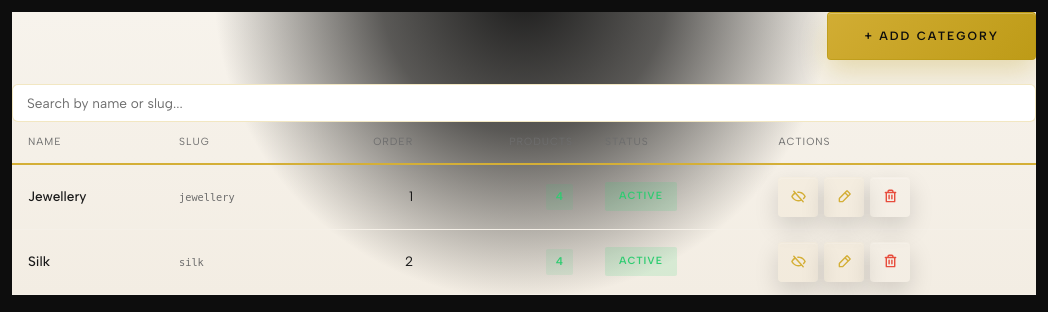
Test case: AdminCategoriesPanel › search input narrows rows by name and slug
The image size is (1048, 312).
Type "sil" into the field named "Search categories" at {"x": 524, "y": 103}, box [12,84,1036,122]
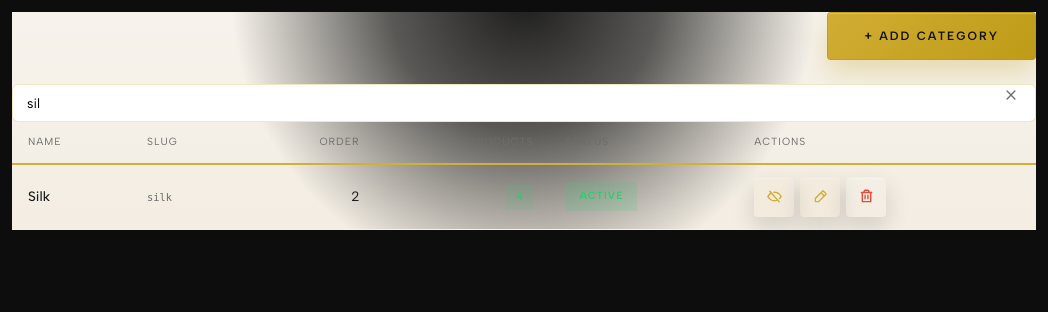
Check: the text "Silk" is shown, box [28,188,50,204]
Check: the text "Jewellery" is gone
Replace the text in the field named "Search categories" with "jewellery" at {"x": 524, "y": 103}, box [12,84,1036,122]
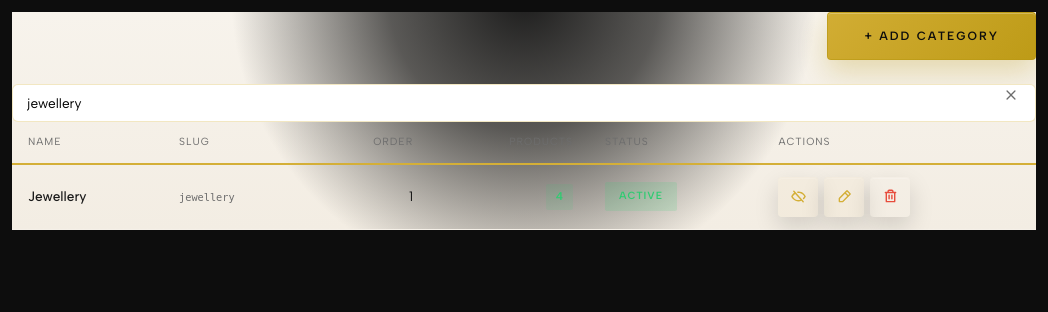
Check: the text "Jewellery" is shown, box [28,188,87,204]
Check: the text "Silk" is gone
